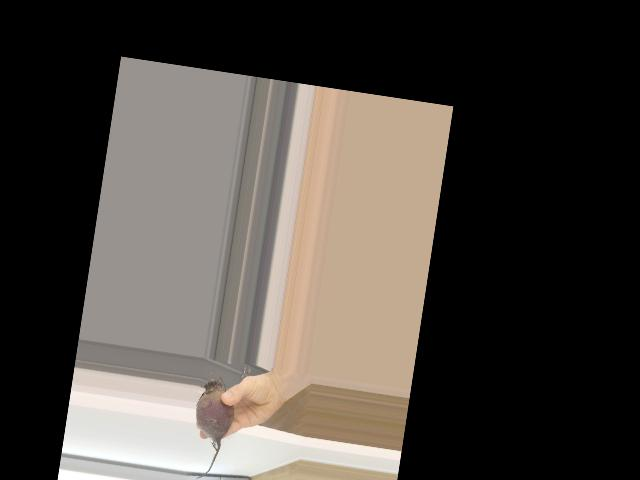beet: (185, 373, 238, 480)
